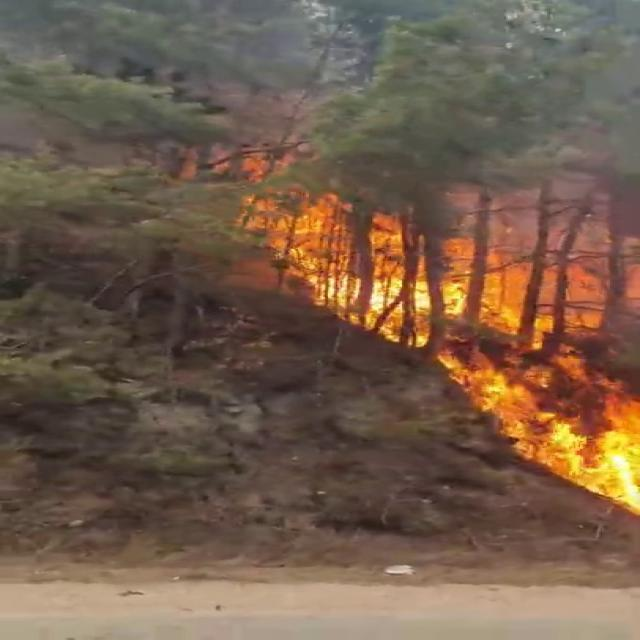Fire: (242, 174, 638, 518)
